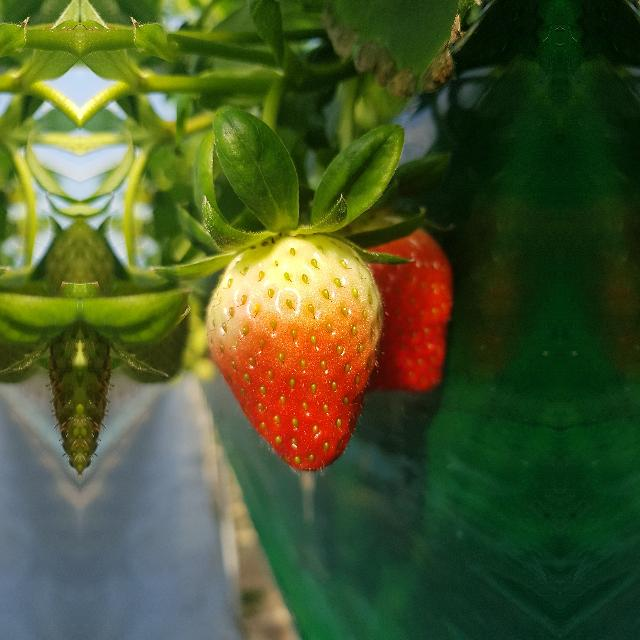Health_75: (204, 234, 386, 472)
